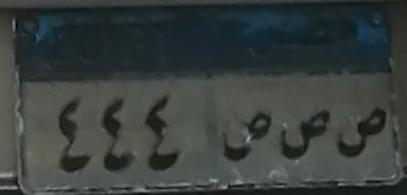4: (97, 93, 138, 177), (53, 95, 92, 180), (145, 93, 184, 172)
saad: (336, 107, 392, 163), (217, 108, 272, 164), (281, 104, 332, 161)
